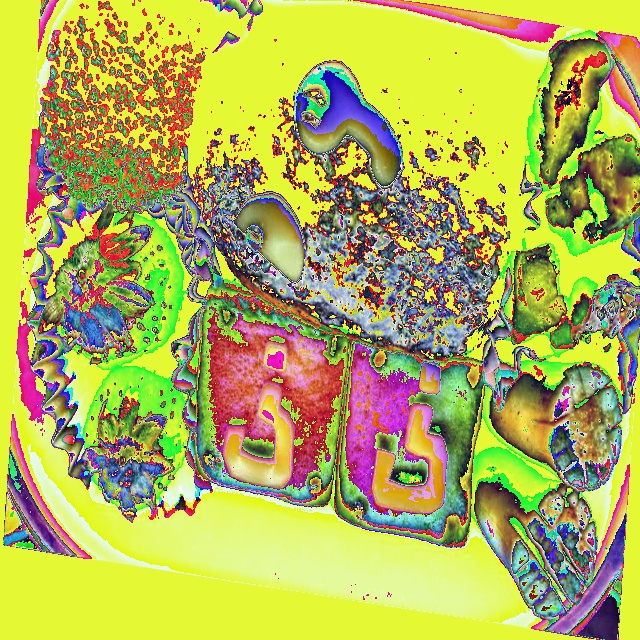background: (38, 0, 639, 621)
